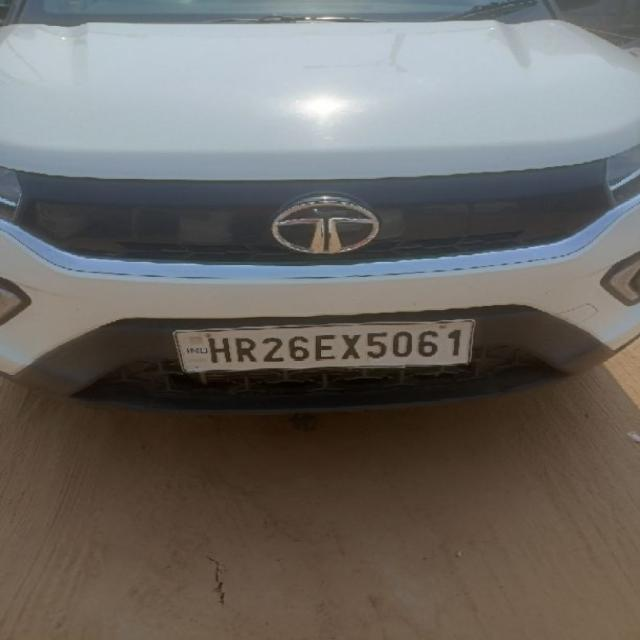license_plate: (1, 0, 638, 413), (170, 318, 476, 374)
